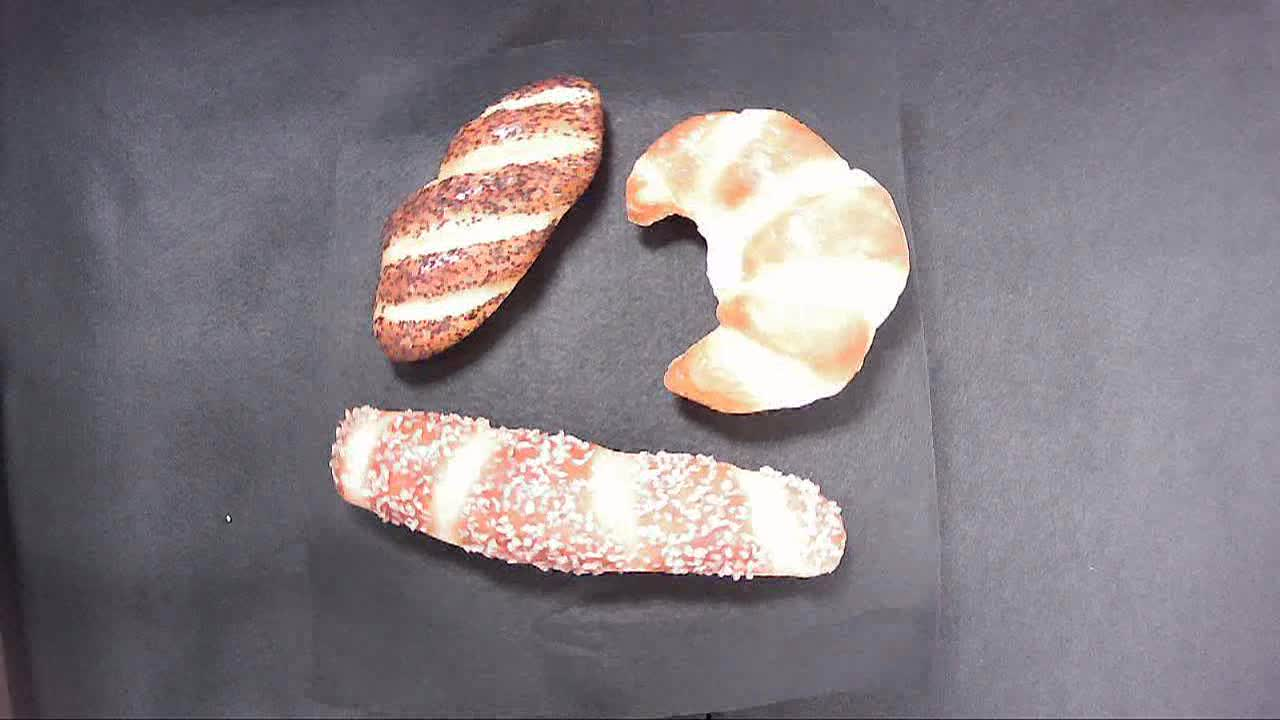cow: (623, 103, 912, 423)
long: (323, 417, 882, 588), (329, 403, 681, 589)
slash: (368, 73, 609, 370)
